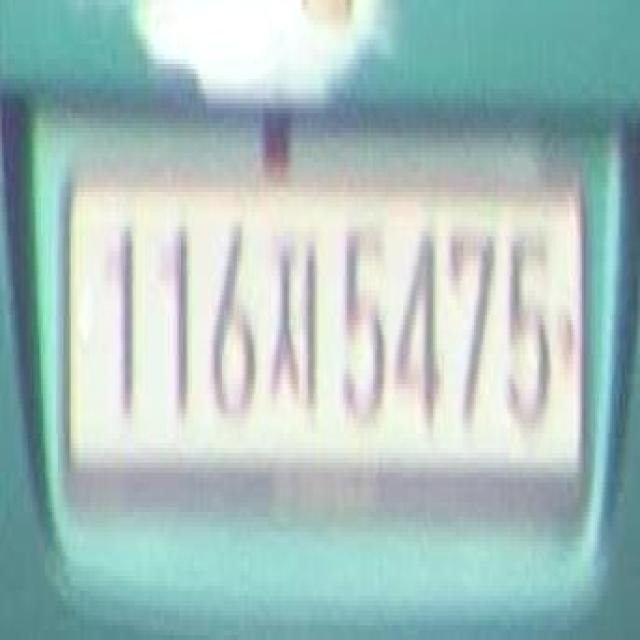illegal_plate: (67, 155, 596, 502)
